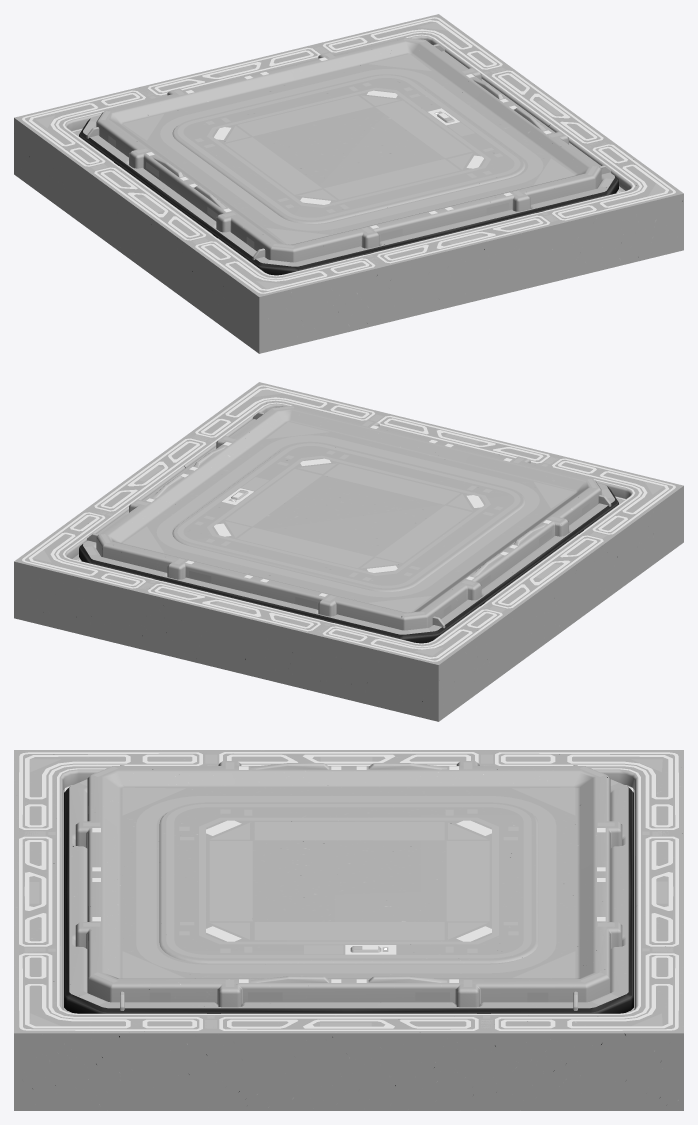
File: SM_Modular_RoofModule_Merged.fbx
3 renders of one model, top to bottom at view 1: azimuth 30°, elevation 25°; view 2: azimuth 150°, elevation 25°; view 3: azimuth 270°, elevation 25°, orthographic. The views are drawn at different scales.
Parts seen in each view (by area): view 1: SM_Modular_RoofModule_Merged_LOD0; view 2: SM_Modular_RoofModule_Merged_LOD0; view 3: SM_Modular_RoofModule_Merged_LOD0.
Part boxes in pixels (x1,y1,x2,y2): SM_Modular_RoofModule_Merged_LOD0: [14, 14, 683, 353]; SM_Modular_RoofModule_Merged_LOD0: [14, 382, 683, 721]; SM_Modular_RoofModule_Merged_LOD0: [14, 750, 683, 1110].
Bounding box in the file's own units: 500 × 500 × 83.55.
